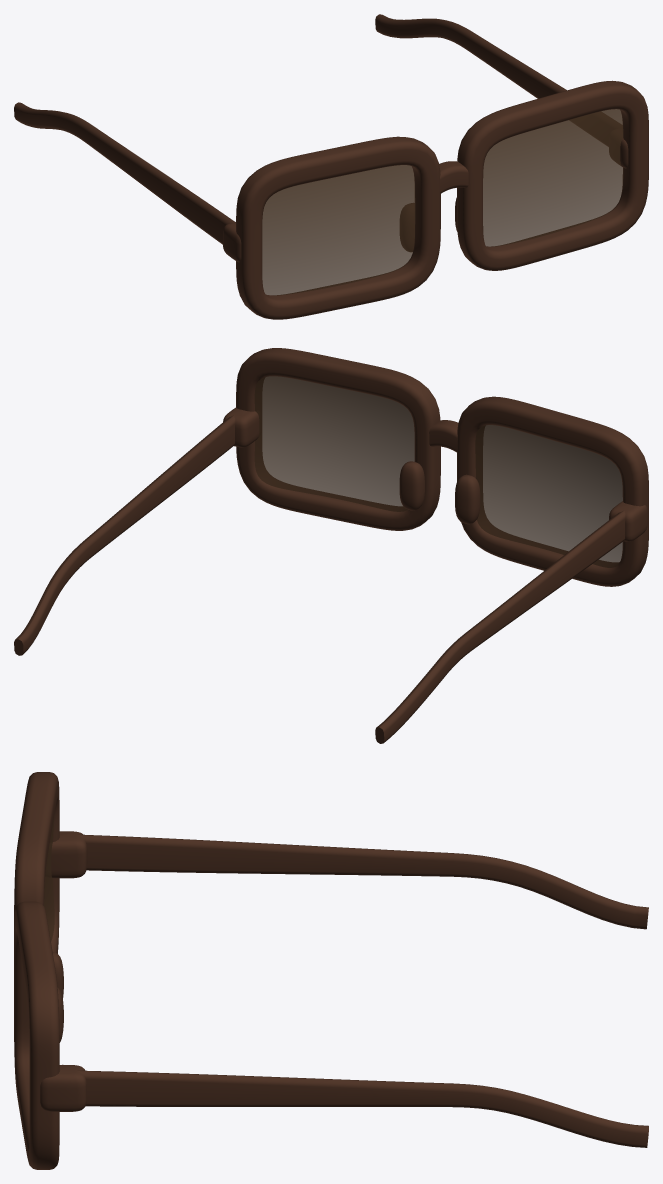
The model's file is TO-RCT-03.glb.
3 renders of one model, top to bottom at view 1: azimuth 30°, elevation 25°; view 2: azimuth 150°, elevation 25°; view 3: azimuth 270°, elevation 25°, orthographic. The views are drawn at different scales.
Visible parts, largest first — view 1: frame, lenses; view 2: frame, lenses; view 3: frame, lenses.
Boxes of the visible parts, <box> form: frame: <box>14,14,648,319</box>; lenses: <box>262,109,623,295</box>; frame: <box>14,348,648,743</box>; lenses: <box>254,376,622,567</box>; frame: <box>14,772,648,1169</box>; lenses: <box>44,814,54,941</box>.
Bounding box in the file's own units: 0.1381 × 0.05 × 0.1489.
